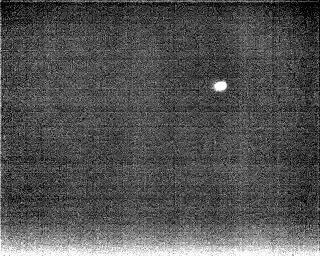AIRPLANE: (211, 79, 229, 95)
